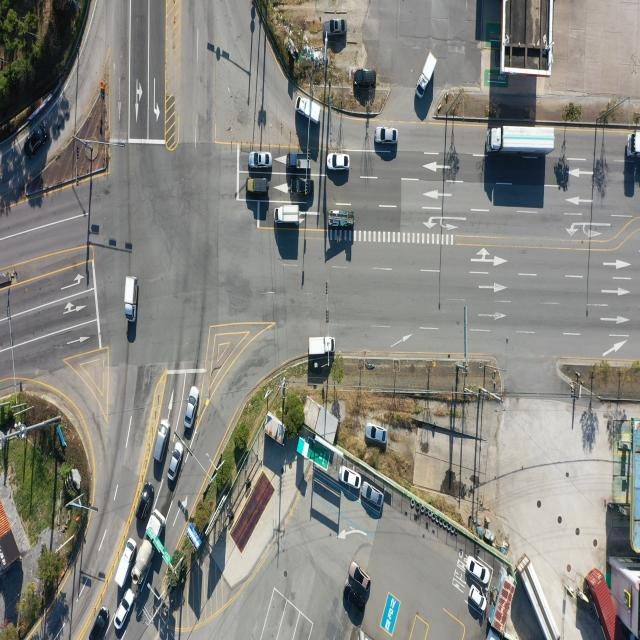car: (23, 124, 49, 160), (116, 588, 136, 631), (167, 440, 185, 481), (155, 418, 171, 464), (183, 386, 199, 431), (344, 585, 364, 619), (136, 484, 154, 521), (89, 607, 108, 640), (350, 561, 371, 590), (469, 558, 491, 584), (362, 484, 384, 509), (468, 586, 487, 612), (340, 466, 362, 488), (364, 423, 386, 443), (328, 152, 351, 170), (246, 177, 270, 194), (376, 127, 398, 145), (354, 68, 376, 86), (290, 181, 311, 199), (251, 151, 273, 168), (327, 20, 346, 36)
medium_truck: (522, 559, 563, 640), (132, 512, 164, 590), (491, 126, 558, 156), (294, 96, 321, 128), (628, 130, 640, 160)
small_truck: (117, 538, 138, 588), (417, 51, 438, 98), (125, 274, 139, 320), (307, 337, 334, 358), (328, 211, 356, 228), (275, 206, 300, 225), (286, 155, 311, 172)
